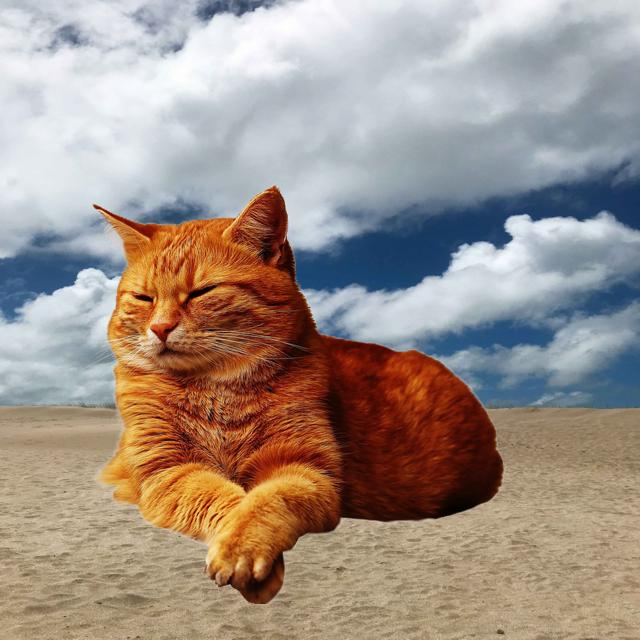cat: (75, 179, 503, 602)
